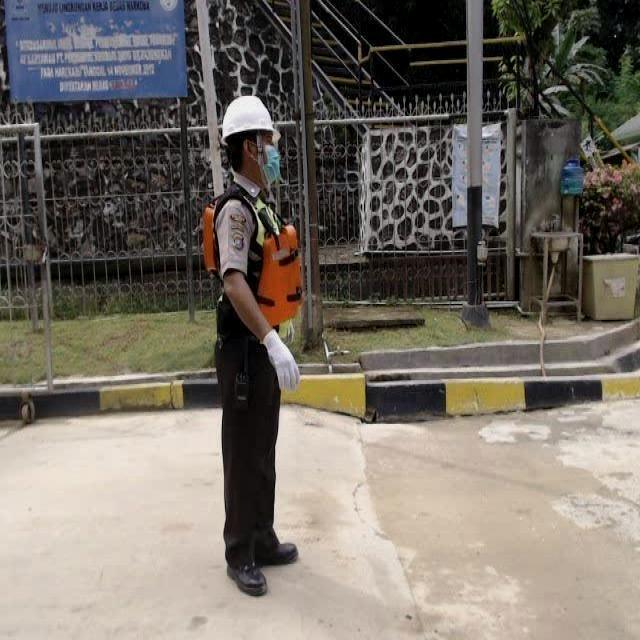vest: (207, 189, 307, 339)
